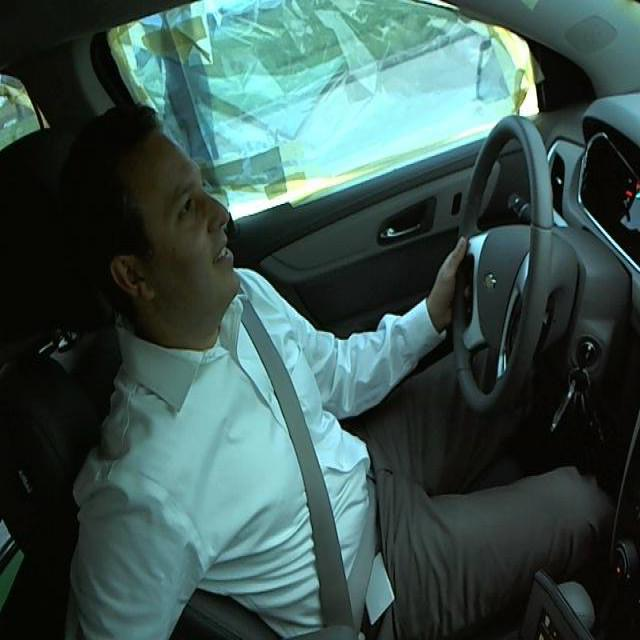seatbelt: (239, 313, 348, 639)
